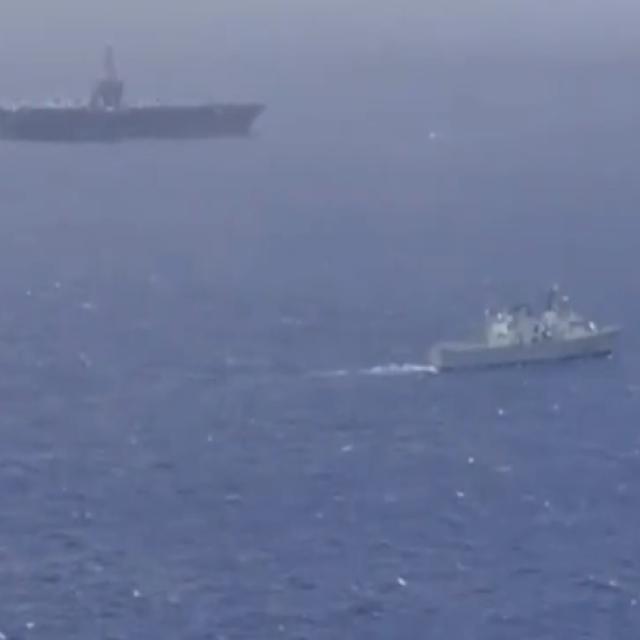navalvessels: (0, 39, 265, 148), (429, 283, 624, 368)
